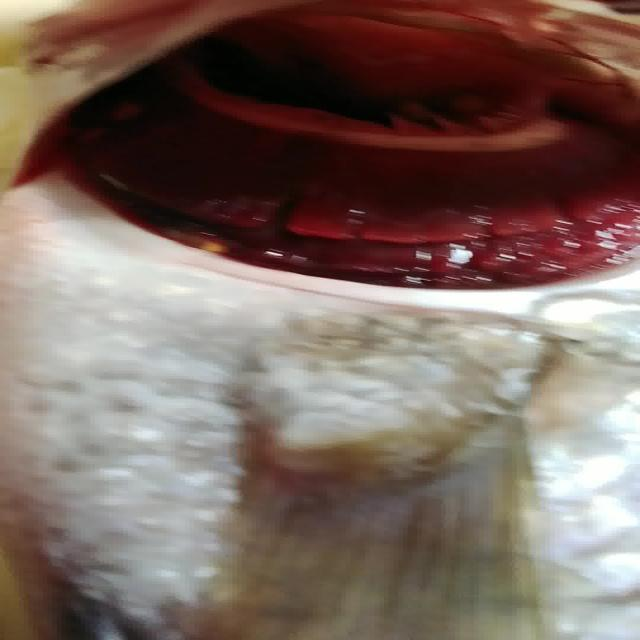Fresh: (61, 22, 640, 314)
